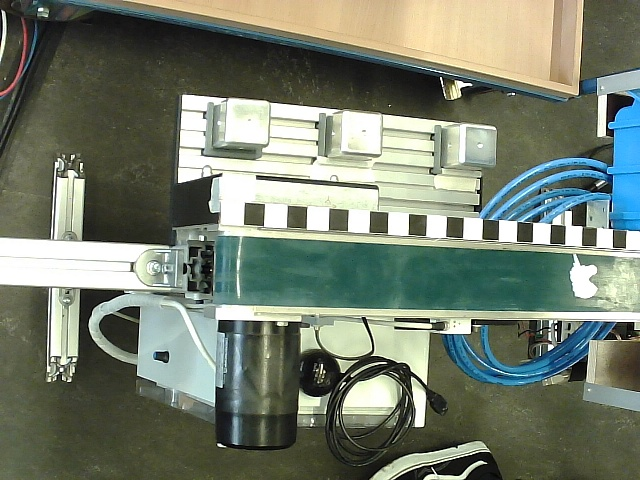unicorn: (569, 253, 599, 299)
